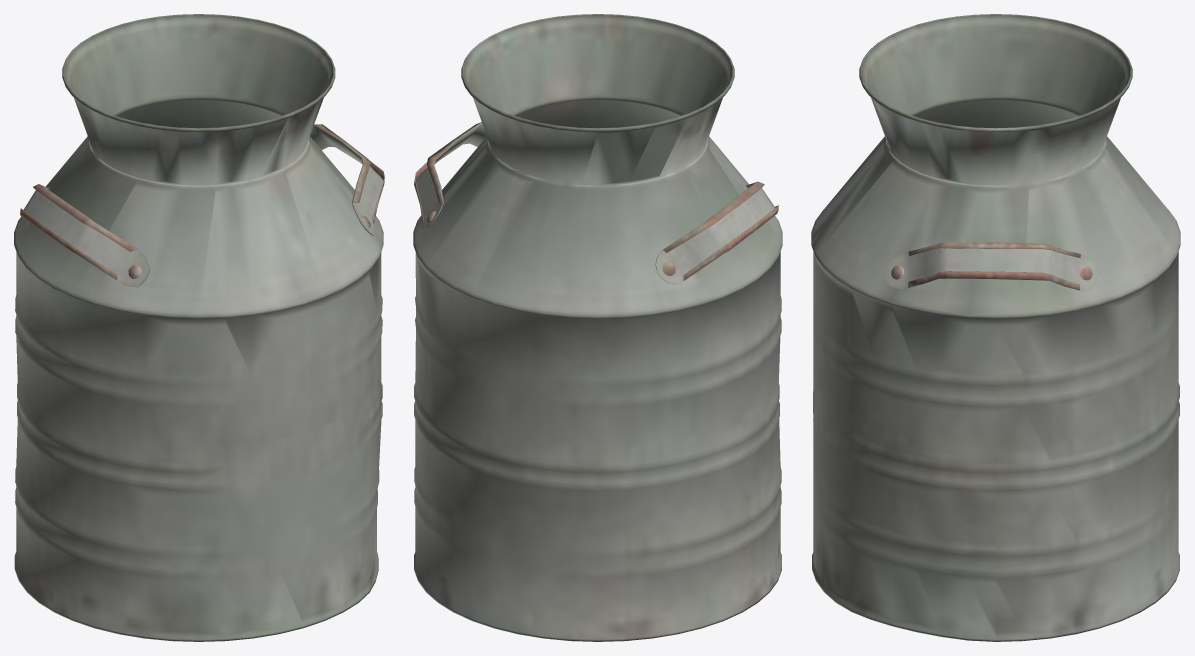
File: metal_jug.glb
3 renders of one model, left to right at view 1: azimuth 30°, elevation 25°; view 2: azimuth 150°, elevation 25°; view 3: azimuth 270°, elevation 25°, orthographic.
Visible parts, largest first — view 1: metal_jug_0; view 2: metal_jug_0; view 3: metal_jug_0.
Part boxes in pixels (bbox=[...]): metal_jug_0: bbox=[14, 14, 384, 641]; metal_jug_0: bbox=[413, 14, 782, 641]; metal_jug_0: bbox=[811, 14, 1180, 641].
Bounding box in the file's own units: 0.1968 × 0.2875 × 0.1955.
Materials: 1 (1 with a texture image).
